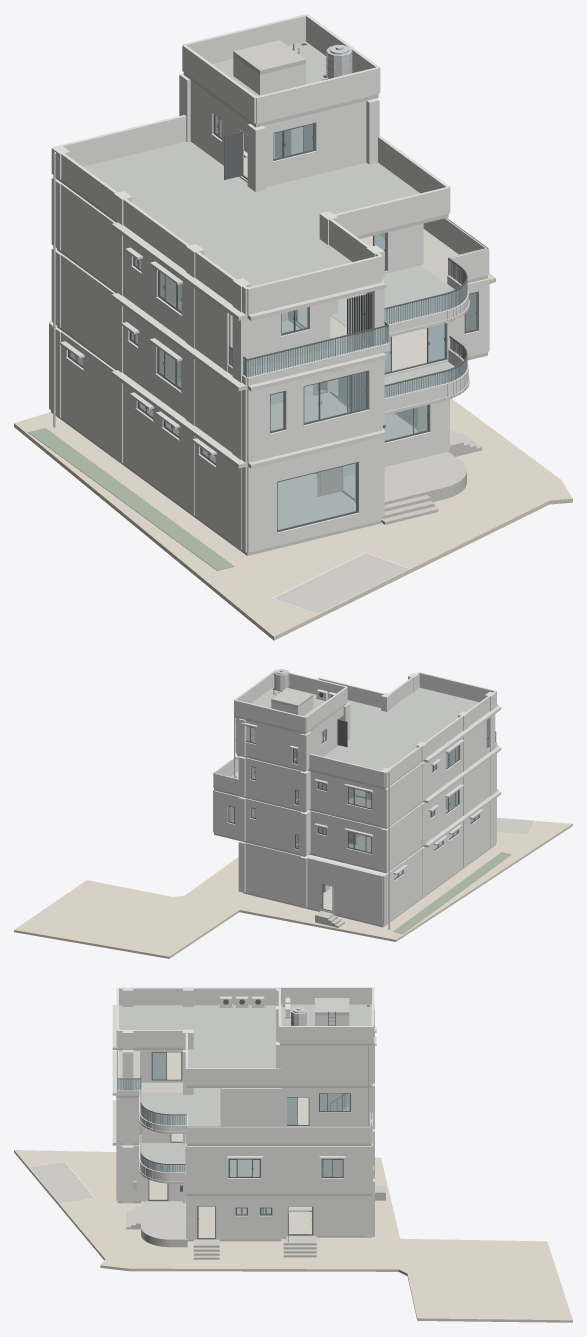
File: architecture-baseline.glb
3 renders of one model, top to bottom at view 1: azimuth 30°, elevation 25°; view 2: azimuth 150°, elevation 25°; view 3: azimuth 270°, elevation 25°, orthographic. The views are drawn at different scales.
Visible parts, largest first — view 1: SITE_site_ground, FLOOR_4_floor_finish_terrace, FLOOR_1_wall_facade, FLOOR_2_wall_facade, FLOOR_4_parapet_facade, FLOOR_3_wall_facade, ROOF_parapet_facade, SITE_site_porch, FLOOR_4_wall_facade, FLOOR_1_window_glass, FLOOR_4_column_facade, FLOOR_3_railing_glass (+35 smaller); view 2: SITE_site_ground, FLOOR_1_wall_facade, FLOOR_2_wall_facade, FLOOR_3_wall_facade, FLOOR_4_floor_finish_terrace, FLOOR_4_parapet_facade, ROOF_parapet_facade, FLOOR_4_wall_facade, FLOOR_2_column_facade, FLOOR_3_column_facade, FLOOR_1_column_facade, FLOOR_4_column_facade (+23 smaller); view 3: SITE_site_ground, FLOOR_2_wall_facade, FLOOR_4_floor_finish_terrace, FLOOR_1_wall_facade, SITE_site_porch, FLOOR_3_wall_facade, FLOOR_4_parapet_facade, FLOOR_4_wall_facade, FLOOR_3_parapet_facade, ROOF_parapet_facade, FLOOR_3_floor_finish_terrace, FLOOR_3_slab_slab (+24 smaller).
Boxes of the visible parts, box(x1,y1,x2,y2) form: SITE_site_ground: box(14, 273, 572, 640); FLOOR_4_floor_finish_terrace: box(83, 141, 419, 286); FLOOR_1_wall_facade: box(49, 322, 449, 552); FLOOR_2_wall_facade: box(61, 255, 489, 462); FLOOR_4_parapet_facade: box(53, 116, 450, 314); FLOOR_3_wall_facade: box(61, 184, 423, 371); ROOF_parapet_facade: box(182, 16, 380, 123); SITE_site_porch: box(274, 429, 482, 615); FLOOR_4_wall_facade: box(190, 80, 377, 186); FLOOR_1_window_glass: box(70, 352, 427, 529); FLOOR_4_column_facade: box(51, 75, 384, 311); FLOOR_3_railing_glass: box(228, 262, 467, 377); SITE_site_ground: box(14, 821, 572, 958); FLOOR_1_wall_facade: box(245, 798, 496, 925); FLOOR_2_wall_facade: box(213, 753, 496, 869); FLOOR_3_wall_facade: box(245, 720, 486, 825); FLOOR_4_floor_finish_terrace: box(323, 687, 479, 770); FLOOR_4_parapet_facade: box(235, 673, 496, 787); ROOF_parapet_facade: box(234, 672, 347, 732); FLOOR_4_wall_facade: box(235, 707, 343, 768); FLOOR_2_column_facade: box(238, 755, 495, 872); FLOOR_3_column_facade: box(238, 714, 495, 827); FLOOR_1_column_facade: box(238, 799, 495, 923); FLOOR_4_column_facade: box(238, 674, 495, 787); SITE_site_ground: box(14, 1150, 572, 1322); FLOOR_2_wall_facade: box(116, 1095, 372, 1193); FLOOR_4_floor_finish_terrace: box(119, 1005, 275, 1068); FLOOR_1_wall_facade: box(116, 1145, 364, 1239); SITE_site_porch: box(30, 1162, 385, 1259); FLOOR_3_wall_facade: box(140, 1050, 364, 1126); FLOOR_4_parapet_facade: box(116, 988, 281, 1085); FLOOR_4_wall_facade: box(280, 1045, 372, 1085); FLOOR_3_parapet_facade: box(116, 1050, 372, 1143); ROOF_parapet_facade: box(278, 988, 374, 1043); FLOOR_3_floor_finish_terrace: box(142, 1088, 219, 1126); FLOOR_3_slab_slab: box(117, 1051, 371, 1145).
Bounding box in the file's own units: 26.38 × 16.92 × 36.59.
